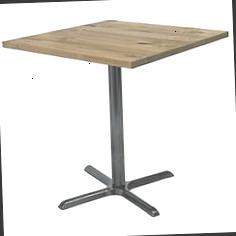Clean Table: (0, 0, 235, 106)
